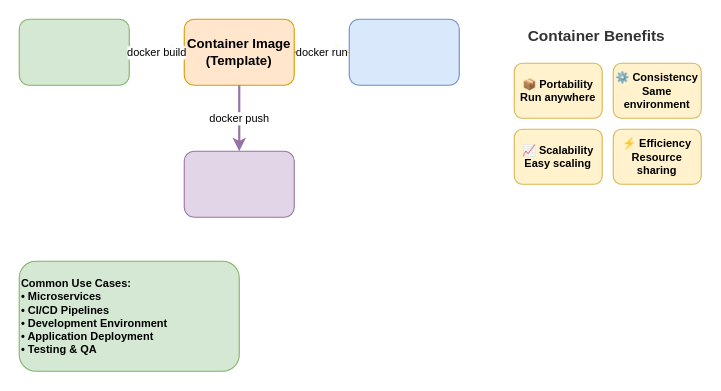
This 721x391 diagram has some shape labels left out. Here are the shapes that lost their labels. From the top down, the centre of each, then its label:
At [73,51]: "Dockerfile (Recipe)".
At [403,51]: "Running Container (Instance)".
At [238,183]: "Container Registry (Docker Hub, etc.)".
